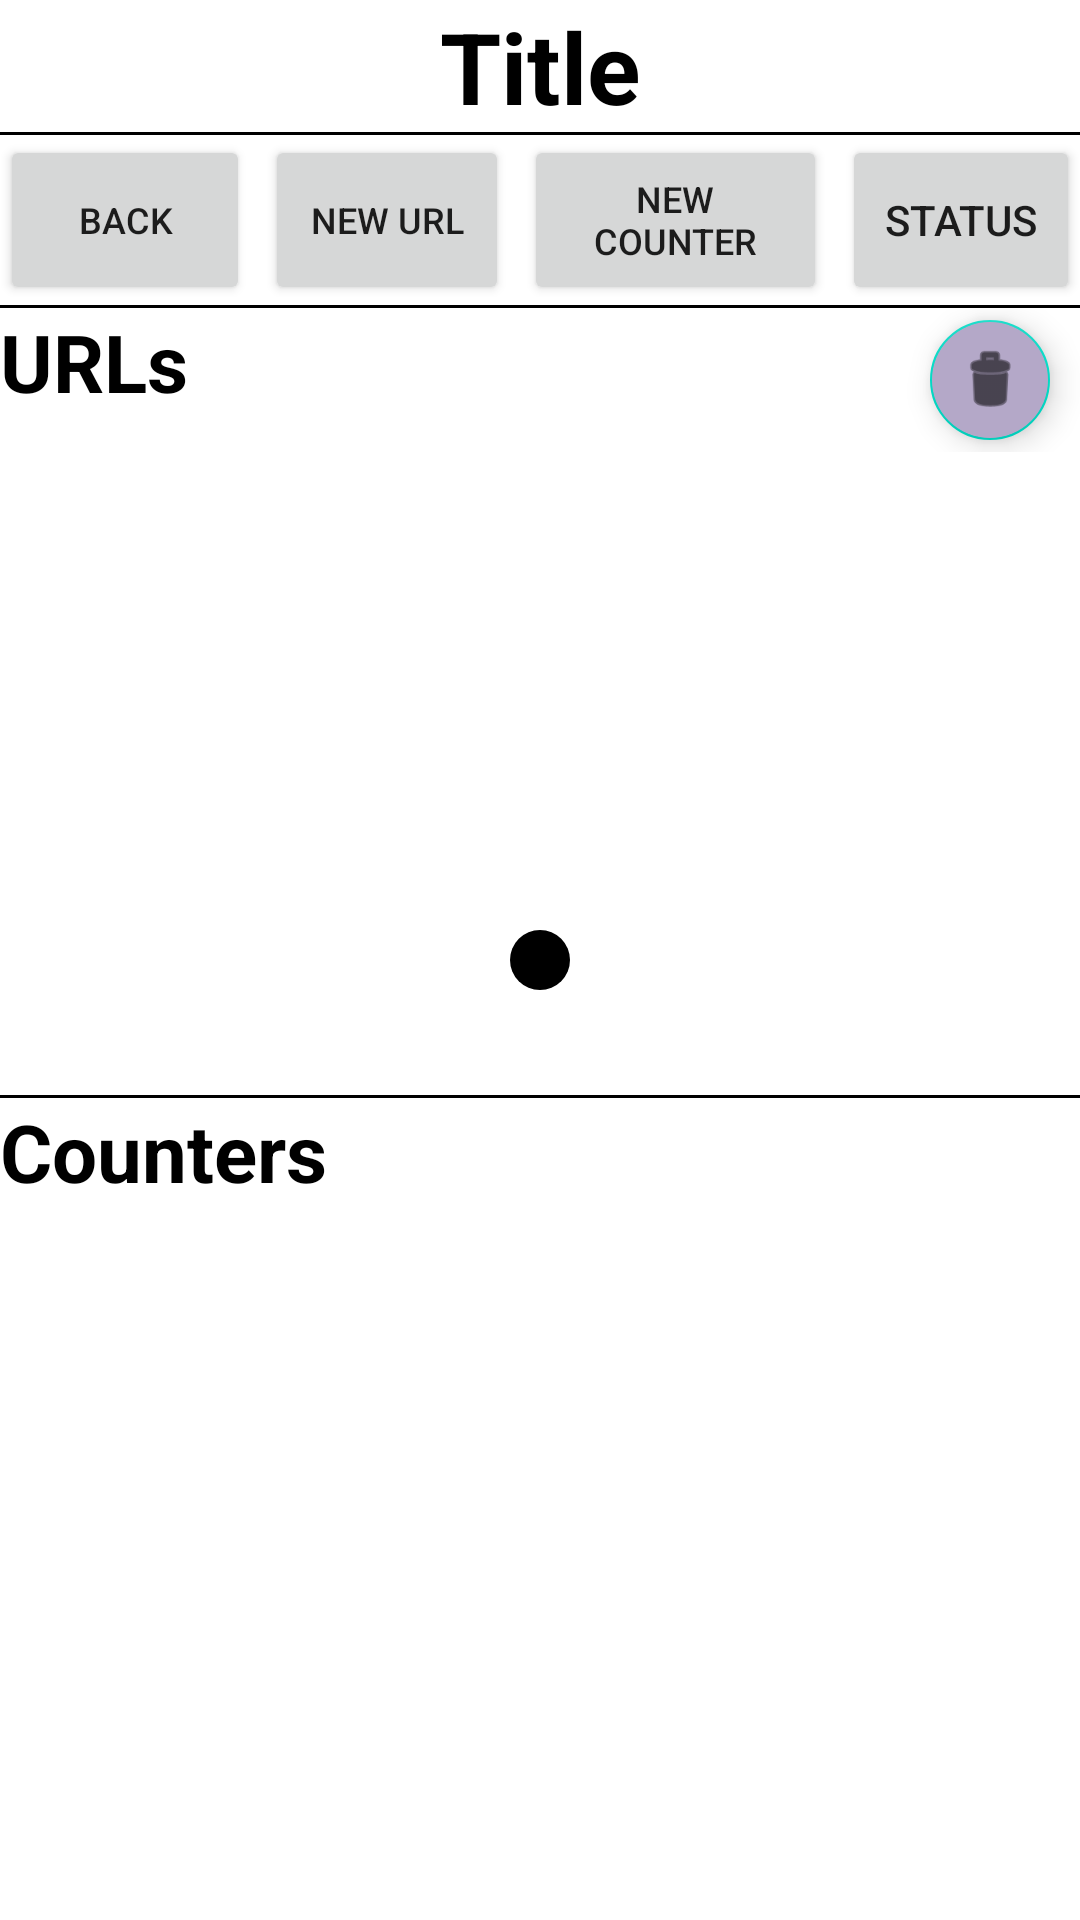

Locate icon controls on the screen. Image size 1080px x 1920px, boxes as (x1, y1, x2, y2).
Delete Url: (930, 320, 1052, 442)
